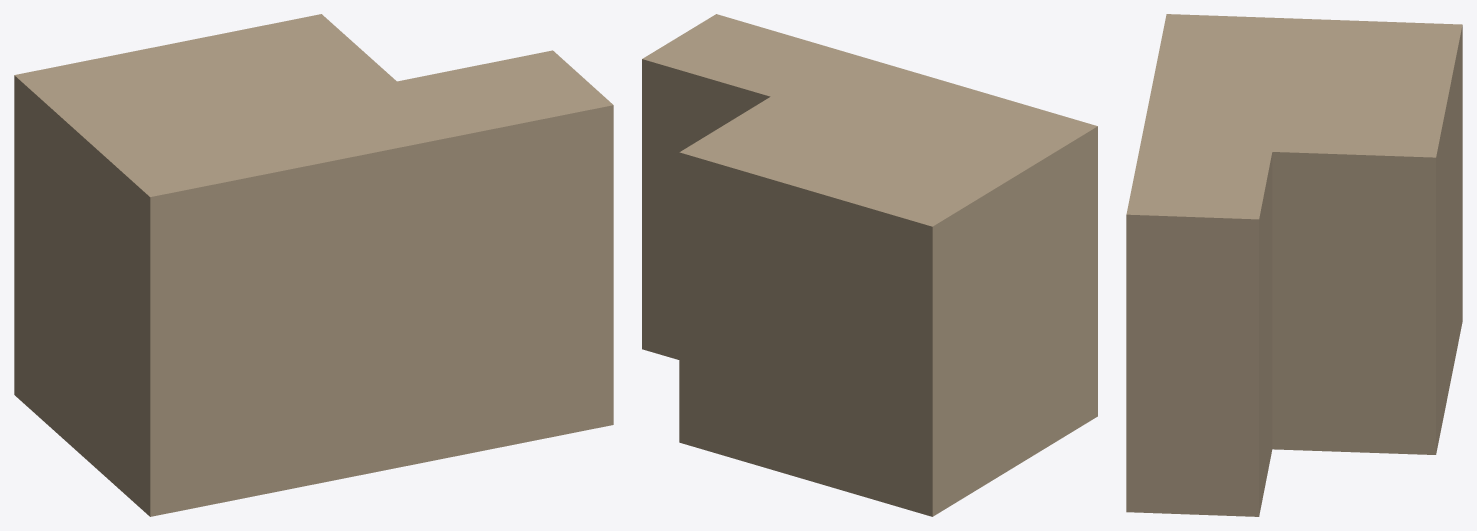
Rendered from bld_100469700.dae.
The picture shows the model from 3 angles, left to right: view 1: azimuth 30°, elevation 25°; view 2: azimuth 150°, elevation 25°; view 3: azimuth 270°, elevation 25°; orthographic projection. The views are drawn at different scales.
Visible parts, largest first — view 1: bld_100469700; view 2: bld_100469700; view 3: bld_100469700.
Part boxes in pixels (left/top/right/bottom): bld_100469700: left=14, top=14, right=613, bottom=516; bld_100469700: left=642, top=14, right=1097, bottom=516; bld_100469700: left=1126, top=14, right=1462, bottom=516.
Bounding box in the file's own units: 11.85 × 8.19 × 8.
